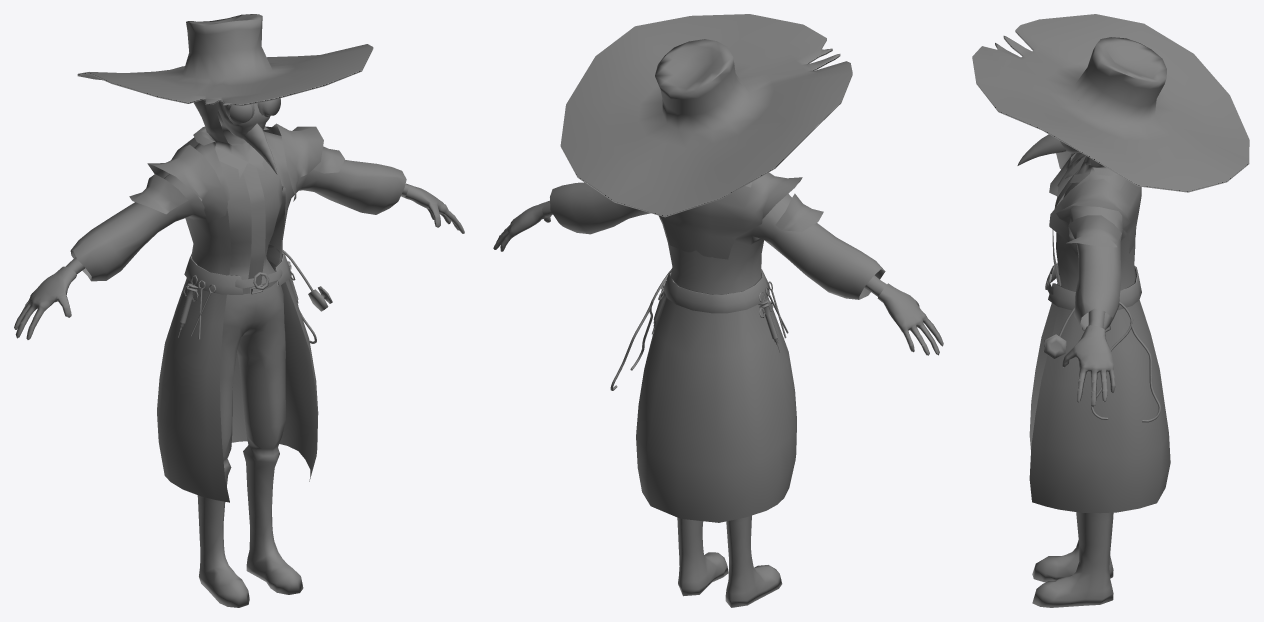
Rendered from doctor.fbx.
The picture shows the model from 3 angles, left to right: view 1: azimuth 30°, elevation 25°; view 2: azimuth 150°, elevation 25°; view 3: azimuth 270°, elevation 25°; orthographic projection. The views are drawn at different scales.
Parts seen in each view (by area): view 1: doctor_coat, doctor_body, doctor_hat, doctor_jiandai1, doctor_hand_R, doctor_jiandai2, doctor_lingdai, doctor_belt2, doctor_maozhao, doctor_hand_L, doctor_mask, doctor_mouth; view 2: doctor_coat, doctor_hat, doctor_body, doctor_jiandai1, doctor_belt2, doctor_hand_R, doctor_jiandai2, doctor_hand_L; view 3: doctor_hat, doctor_coat, doctor_body, doctor_jiandai1, doctor_hand_L, doctor_jiandai2, doctor_belt2, doctor_mouth, headset_main.
Boxes of the visible parts, bbox=[...] form: doctor_coat: bbox=[70, 124, 406, 502]; doctor_body: bbox=[65, 111, 413, 607]; doctor_hat: bbox=[77, 14, 373, 106]; doctor_jiandai1: bbox=[147, 123, 323, 222]; doctor_hand_R: bbox=[14, 266, 76, 339]; doctor_jiandai2: bbox=[129, 146, 344, 214]; doctor_lingdai: bbox=[243, 163, 265, 287]; doctor_belt2: bbox=[184, 243, 290, 294]; doctor_maozhao: bbox=[194, 100, 267, 164]; doctor_hand_L: bbox=[401, 183, 464, 233]; doctor_mask: bbox=[218, 101, 269, 140]; doctor_mouth: bbox=[242, 123, 277, 174]; doctor_coat: bbox=[550, 182, 885, 522]; doctor_hat: bbox=[560, 14, 852, 217]; doctor_body: bbox=[542, 201, 892, 607]; doctor_jiandai1: bbox=[659, 172, 802, 259]; doctor_belt2: bbox=[663, 269, 769, 313]; doctor_hand_R: bbox=[877, 283, 943, 355]; doctor_jiandai2: bbox=[775, 193, 823, 231]; doctor_hand_L: bbox=[493, 200, 551, 251]; doctor_hat: bbox=[972, 14, 1249, 192]; doctor_coat: bbox=[1029, 153, 1170, 513]; doctor_body: bbox=[1032, 156, 1113, 607]; doctor_jiandai1: bbox=[1049, 151, 1141, 253]; doctor_hand_L: bbox=[1062, 325, 1115, 406]; doctor_jiandai2: bbox=[1066, 153, 1121, 247]; doctor_belt2: bbox=[1048, 263, 1141, 310]; doctor_mouth: bbox=[1017, 134, 1066, 165]; headset_main: bbox=[1044, 334, 1066, 358].
Size of the model in its own units: 153 by 184 by 84.72.
